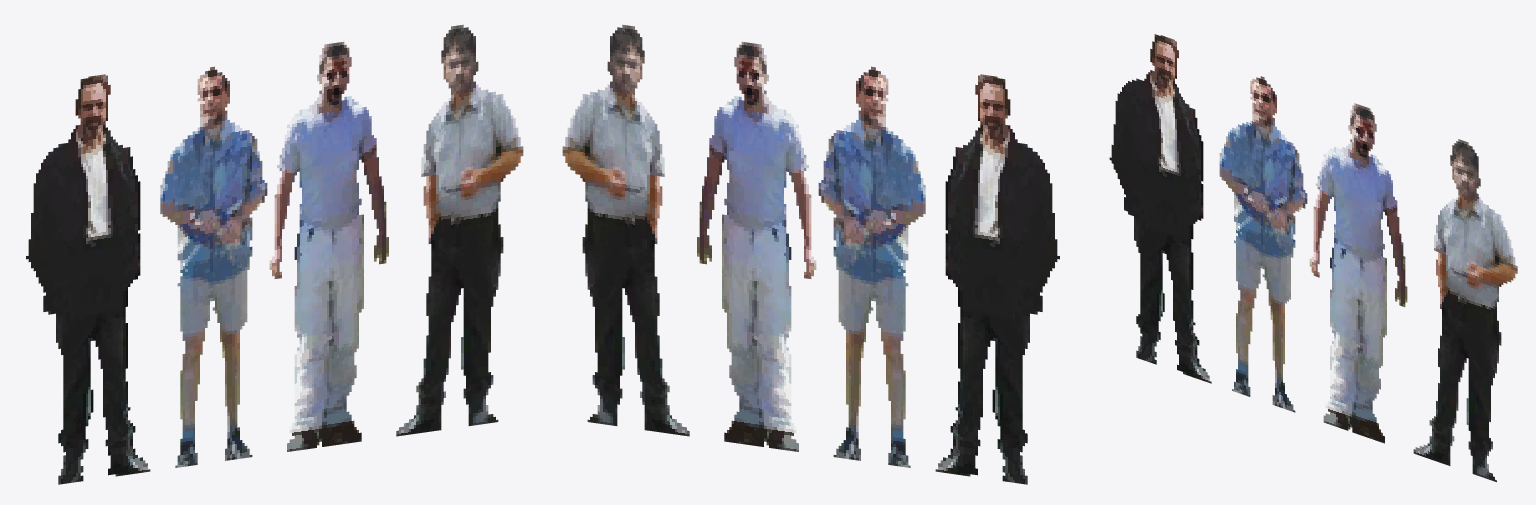
File: stage-dese-p6-64.glb
3 renders of one model, left to right at view 1: azimuth 30°, elevation 25°; view 2: azimuth 150°, elevation 25°; view 3: azimuth 330°, elevation 25°, orthographic. The views are drawn at different scales.
Size of the model in its own units: 2.4 by 2.03 by 0.
Materials: 1 (1 with a texture image).
